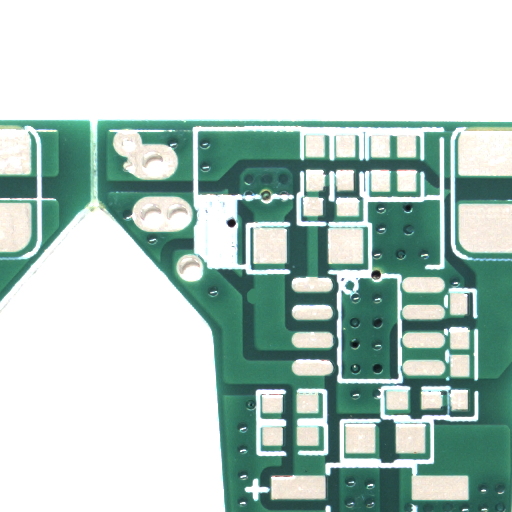Spur: (250, 295, 261, 309)
